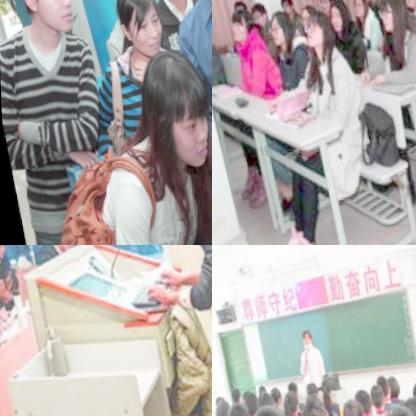head: (132, 43, 212, 173), (109, 0, 165, 58), (6, 0, 81, 42), (297, 5, 334, 51), (262, 6, 293, 47), (370, 0, 405, 34), (222, 6, 252, 43), (322, 0, 350, 34), (0, 257, 18, 306), (242, 401, 295, 416), (350, 384, 374, 416), (291, 0, 313, 27), (221, 397, 252, 416), (243, 0, 264, 28), (336, 396, 364, 416), (297, 401, 334, 416), (238, 386, 256, 416), (366, 383, 385, 409), (280, 389, 298, 416), (303, 379, 321, 404), (255, 390, 272, 416), (344, 0, 367, 19), (225, 384, 242, 408), (383, 372, 399, 397), (373, 373, 389, 398), (316, 375, 332, 400), (271, 0, 294, 17), (401, 394, 416, 416), (296, 328, 312, 348), (407, 381, 416, 416), (212, 400, 231, 416), (284, 382, 300, 401), (267, 386, 280, 406), (311, 0, 331, 12), (396, 0, 416, 12), (252, 383, 266, 397)
